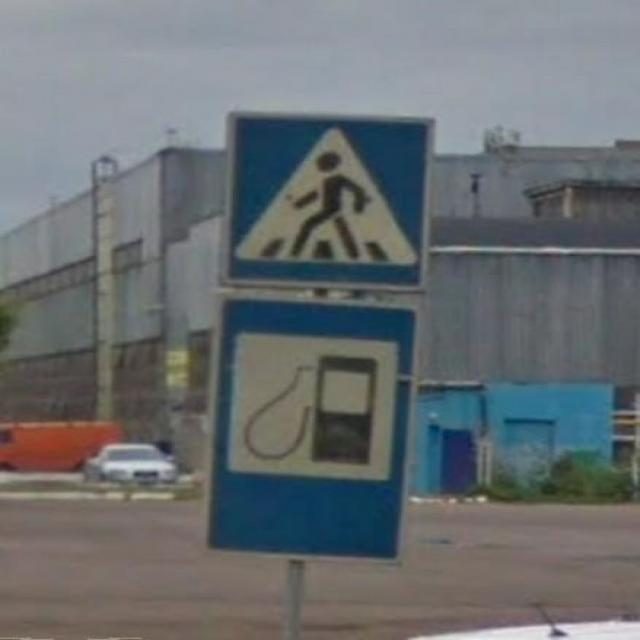traffic_sign: (202, 293, 422, 565), (219, 109, 437, 294)
